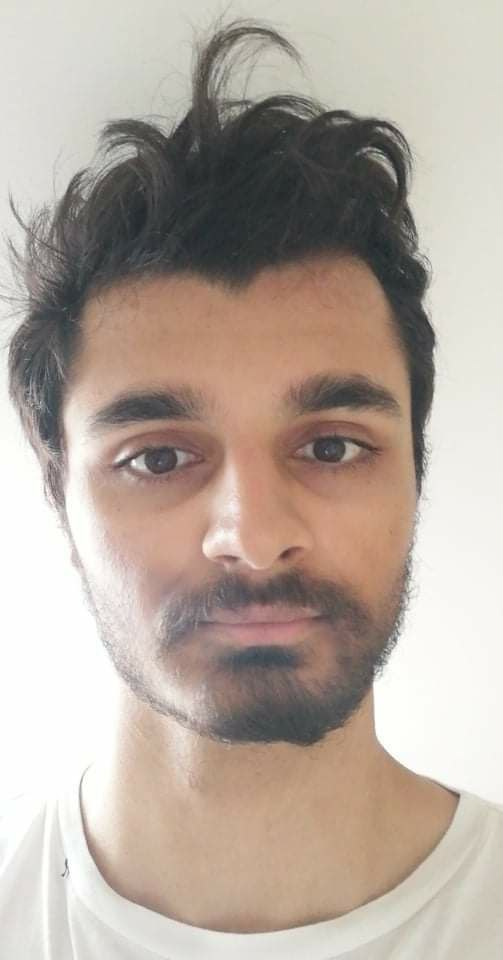without_mask: (19, 245, 426, 743)
